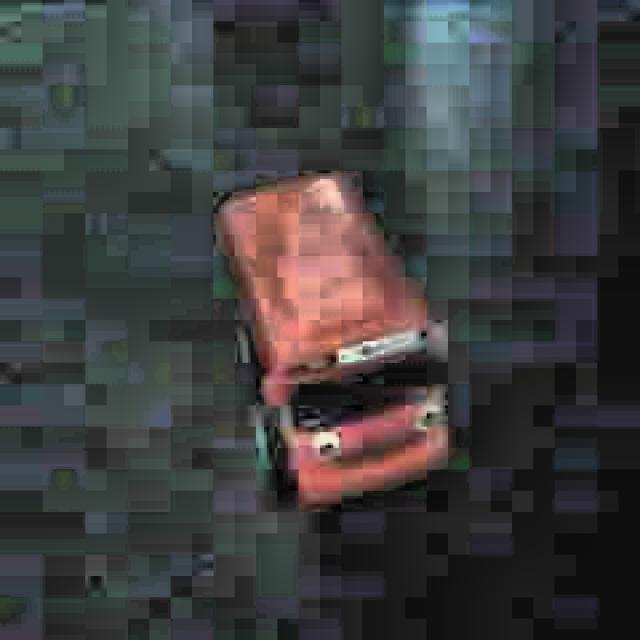bus: (205, 152, 454, 516)
